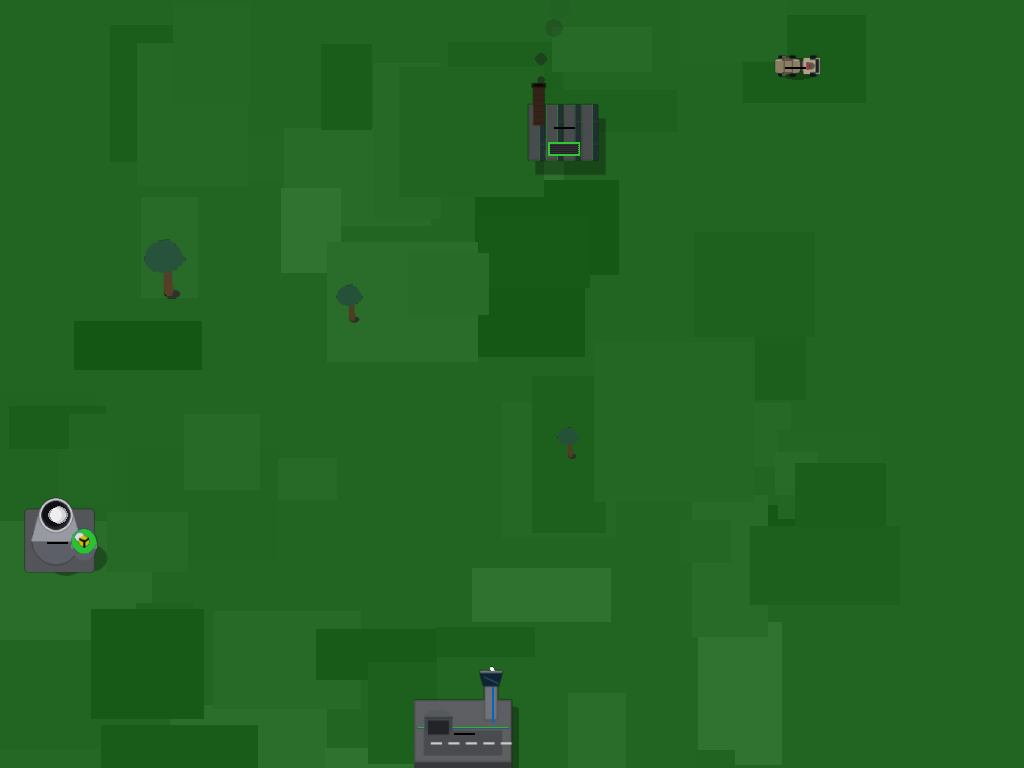Airfield: (415, 683, 511, 768)
FactoryBuilding: (516, 77, 612, 173)
HIMARS: (771, 42, 804, 89)
PowerPlant: (26, 511, 87, 572)
